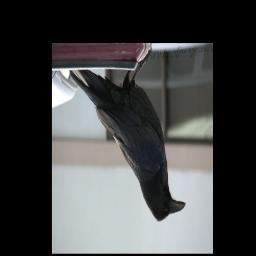Crow: (68, 47, 187, 226)
